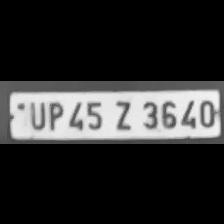0: (196, 96, 216, 127)
3: (138, 97, 158, 128)
4: (65, 98, 85, 130), (178, 96, 198, 128)
5: (82, 98, 106, 130)
6: (158, 97, 178, 129)
P: (44, 98, 64, 130)
U: (26, 99, 46, 129)
Z: (107, 96, 134, 130)
